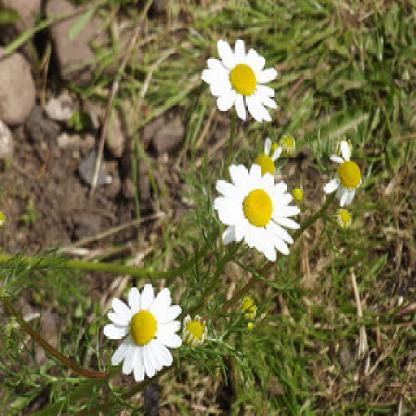ASTER: (84, 25, 320, 398)
